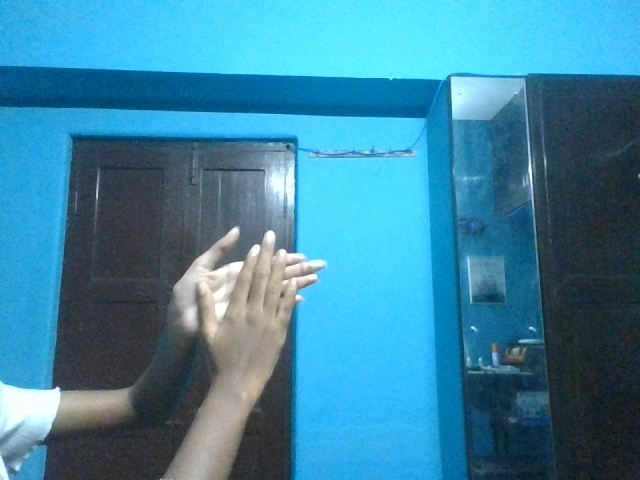H: (159, 221, 328, 380)
